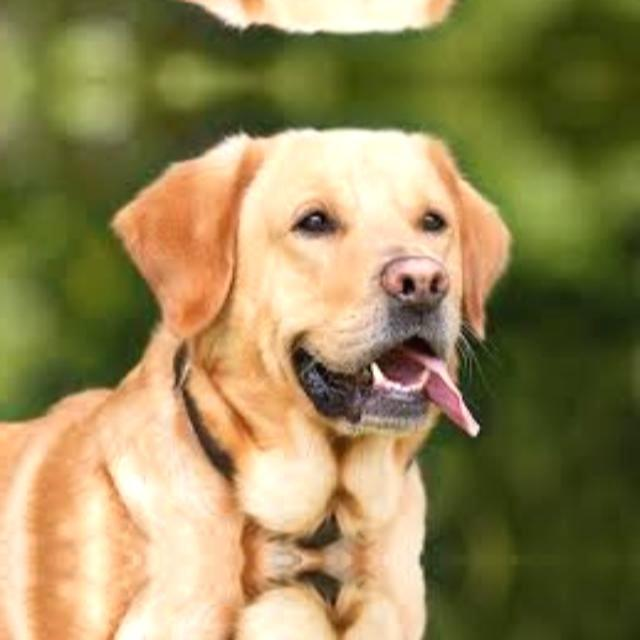dog: (113, 103, 517, 457), (113, 0, 517, 57)
